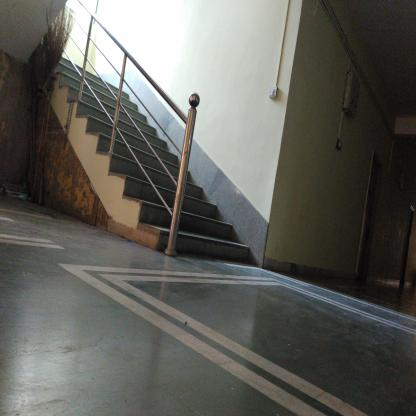stairs: (188, 189, 214, 265)
